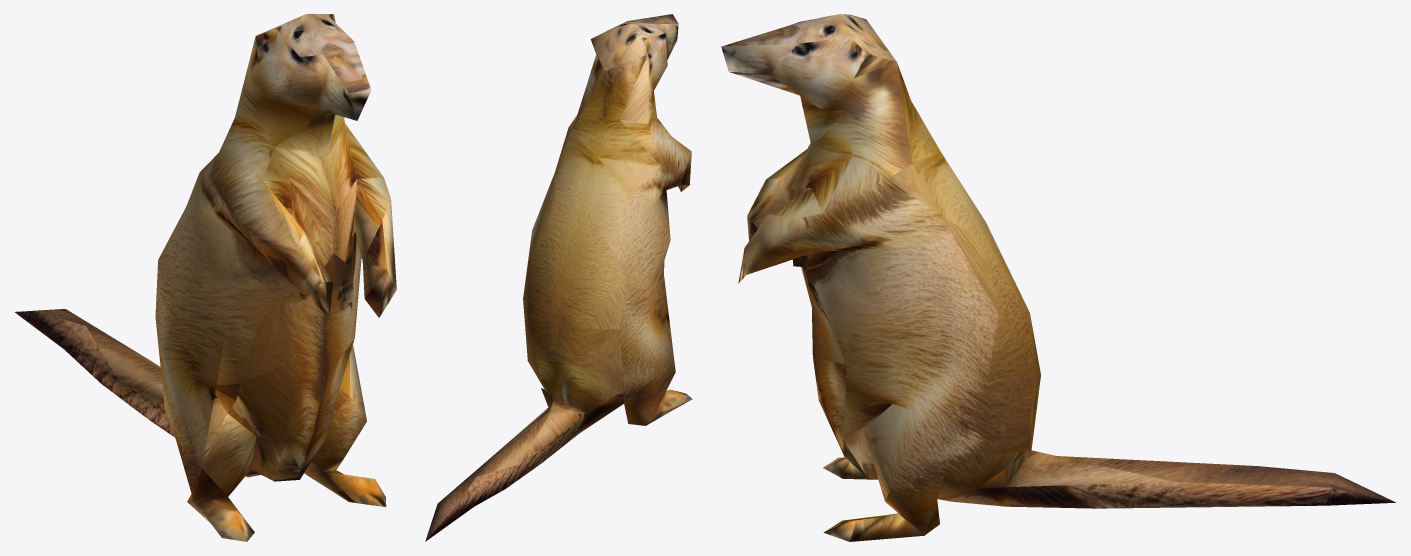
File: prairie dog.glb
3 views of the same model, side by side, from view 1: azimuth 30°, elevation 25°; view 2: azimuth 150°, elevation 25°; view 3: azimuth 270°, elevation 25° (orthographic). The views are drawn at different scales.
Parts seen in each view (by area): view 1: I_need_a_prairie_dog__1128235221_texture; view 2: I_need_a_prairie_dog__1128235221_texture; view 3: I_need_a_prairie_dog__1128235221_texture.
Boxes of the visible parts, left/top/right/bottom form: I_need_a_prairie_dog__1128235221_texture: left=15, top=14, right=396, bottom=541; I_need_a_prairie_dog__1128235221_texture: left=425, top=14, right=692, bottom=541; I_need_a_prairie_dog__1128235221_texture: left=721, top=14, right=1395, bottom=541.
Size of the model in its own units: 0.5761 by 1.62 by 2.02.
Materials: 1 (1 with a texture image).
